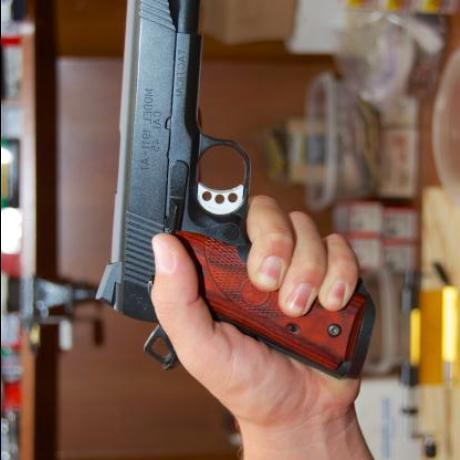1: (145, 194, 378, 460)
weapon: (90, 0, 381, 395)
